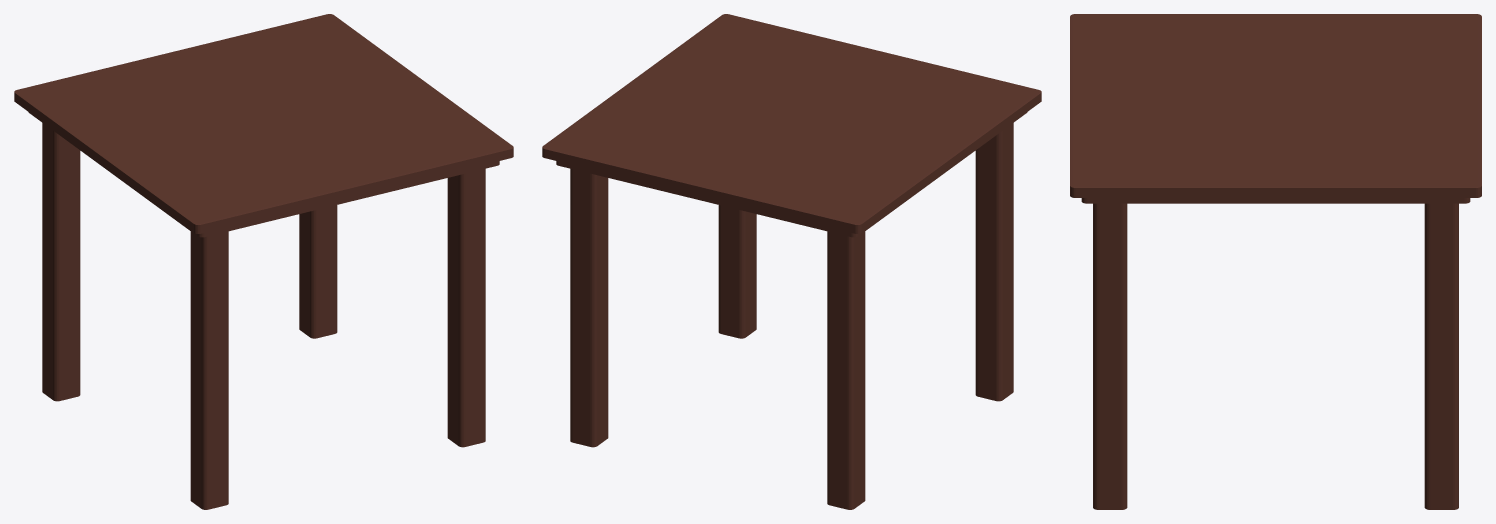
File: table.glb
The picture shows the model from 3 angles, left to right: view 1: azimuth 30°, elevation 25°; view 2: azimuth 150°, elevation 25°; view 3: azimuth 270°, elevation 25°; orthographic projection. The views are drawn at different scales.
Visible parts, largest first — view 1: table; view 2: table; view 3: table.
Boxes of the visible parts, left/top/right/bottom form: table: left=14, top=14, right=513, bottom=509; table: left=542, top=14, right=1041, bottom=509; table: left=1070, top=14, right=1481, bottom=509.
Size of the model in its own units: 0.9144 by 0.8128 by 0.9144.
